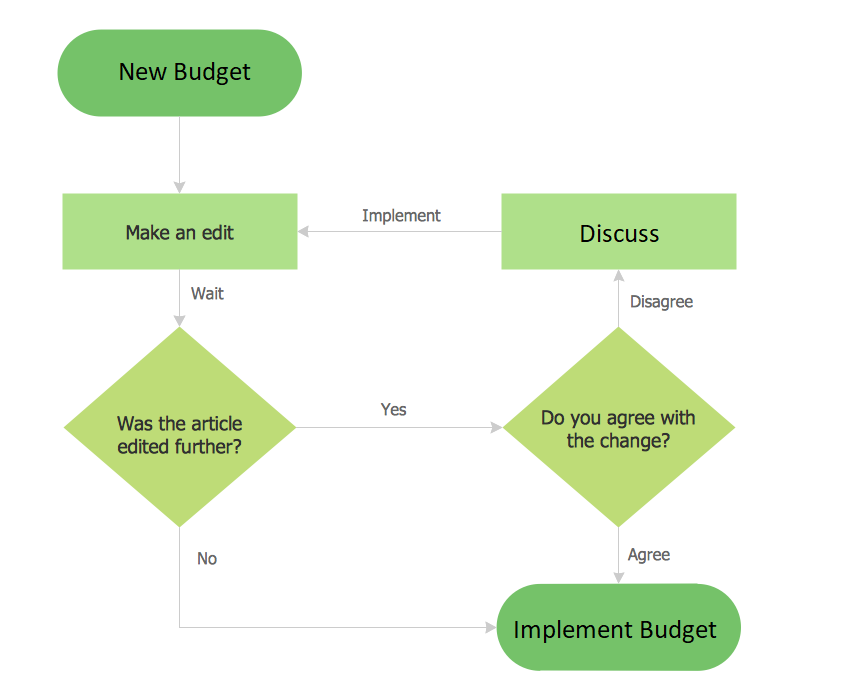arrow: (174, 520, 500, 635), (291, 415, 512, 441), (296, 219, 507, 238), (168, 115, 190, 196), (169, 271, 195, 330), (608, 269, 627, 329), (612, 520, 629, 584)
decision: (61, 325, 304, 531), (497, 323, 737, 531)
process: (496, 187, 742, 273), (55, 190, 303, 275)
terminator: (493, 579, 742, 674), (52, 27, 304, 120)
text: (539, 408, 703, 451), (113, 411, 244, 458), (509, 617, 721, 646), (118, 58, 252, 87), (123, 221, 235, 244), (578, 216, 661, 246), (359, 202, 442, 224), (626, 287, 698, 311), (623, 543, 672, 566), (185, 281, 228, 304), (377, 399, 417, 419), (192, 548, 222, 569)
